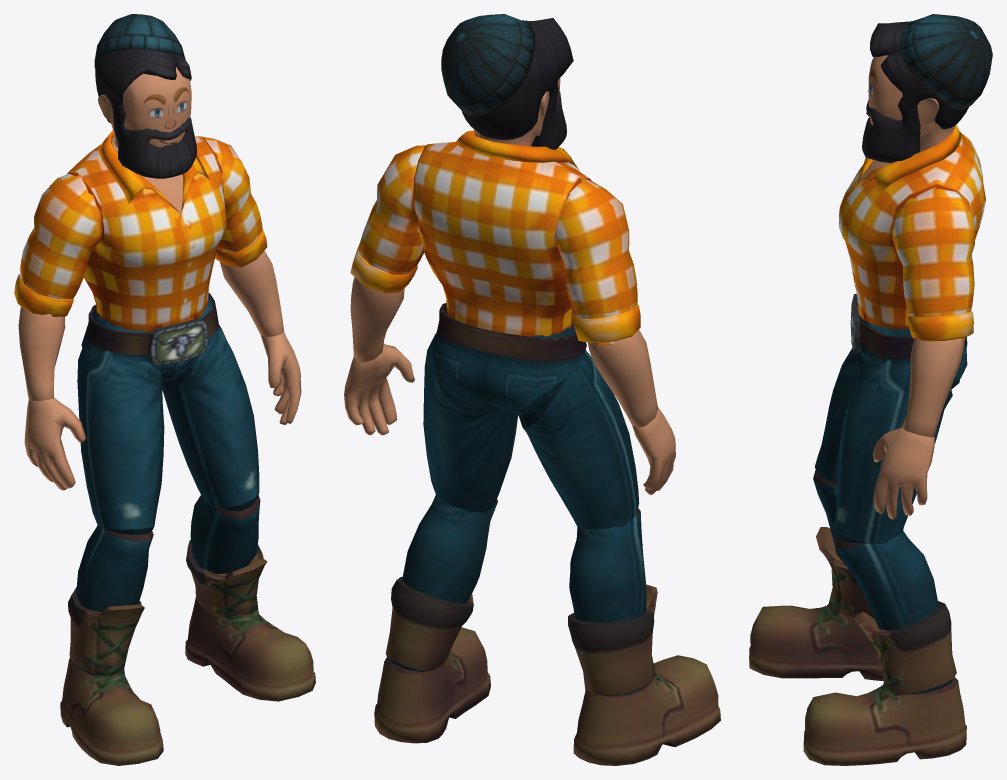
The picture shows the model from 3 angles, left to right: view 1: azimuth 30°, elevation 25°; view 2: azimuth 150°, elevation 25°; view 3: azimuth 270°, elevation 25°; orthographic projection. The views are drawn at different scales.
Parts seen in each view (by area): view 1: UpperTorso, RightUpperLeg, LeftUpperLeg, RightLowerLeg, LeftFoot, RightUpperArm, RightFoot, LeftLowerLeg, acc_HairAccessory, LowerTorso, LeftUpperArm, Head (+5 smaller); view 2: UpperTorso, RightLowerLeg, RightUpperLeg, LeftLowerLeg, RightFoot, RightUpperArm, LowerTorso, LeftUpperLeg, LeftFoot, acc_HatAccessory, LeftUpperArm, acc_HairAccessory (+5 smaller); view 3: UpperTorso, LeftLowerLeg, LeftFoot, LeftUpperArm, LeftUpperLeg, RightFoot, acc_HatAccessory, acc_HairAccessory, LeftHand, LeftLowerArm, RightLowerLeg, LowerTorso (+2 smaller).
Part boxes in pixels (x1=…): UpperTorso: x1=67, y1=130, x2=226, y2=331; RightUpperLeg: x1=77, y1=344, x2=164, y2=535; LeftUpperLeg: x1=162, y1=325, x2=259, y2=511; RightLowerLeg: x1=68, y1=525, x2=153, y2=676; LeftFoot: x1=185, y1=596, x2=315, y2=701; RightUpperArm: x1=14, y1=173, x2=102, y2=316; RightFoot: x1=60, y1=657, x2=163, y2=765; LeftLowerLeg: x1=186, y1=495, x2=267, y2=618; acc_HairAccessory: x1=95, y1=49, x2=196, y2=178; LowerTorso: x1=81, y1=293, x2=219, y2=381; LeftUpperArm: x1=204, y1=137, x2=267, y2=267; Head: x1=98, y1=67, x2=191, y2=147; UpperTorso: x1=413, y1=130, x2=591, y2=336; RightLowerLeg: x1=568, y1=508, x2=657, y2=696; RightUpperLeg: x1=518, y1=350, x2=639, y2=529; LeftLowerLeg: x1=385, y1=494, x2=497, y2=672; RightFoot: x1=573, y1=655, x2=720, y2=765; RightUpperArm: x1=554, y1=177, x2=640, y2=345; LowerTorso: x1=431, y1=303, x2=586, y2=414; LeftUpperLeg: x1=423, y1=334, x2=518, y2=514; LeftFoot: x1=374, y1=627, x2=490, y2=743; acc_HatAccessory: x1=441, y1=14, x2=535, y2=117; LeftUpperArm: x1=350, y1=145, x2=425, y2=293; acc_HairAccessory: x1=462, y1=18, x2=573, y2=149; UpperTorso: x1=839, y1=125, x2=985, y2=329; LeftLowerLeg: x1=834, y1=531, x2=956, y2=695; LeftFoot: x1=803, y1=677, x2=966, y2=765; LeftUpperArm: x1=892, y1=187, x2=975, y2=341; LeftUpperLeg: x1=833, y1=359, x2=952, y2=543; RightFoot: x1=749, y1=604, x2=883, y2=680; acc_HatAccessory: x1=899, y1=14, x2=992, y2=110; acc_HairAccessory: x1=862, y1=21, x2=968, y2=163; LeftHand: x1=873, y1=427, x2=934, y2=519; LeftLowerArm: x1=902, y1=338, x2=964, y2=437; RightLowerLeg: x1=813, y1=470, x2=874, y2=618; LowerTorso: x1=850, y1=294, x2=967, y2=389.
Bounding box in the file's own units: 2.54 × 5.78 × 1.86.
17 materials, 17 textured.
